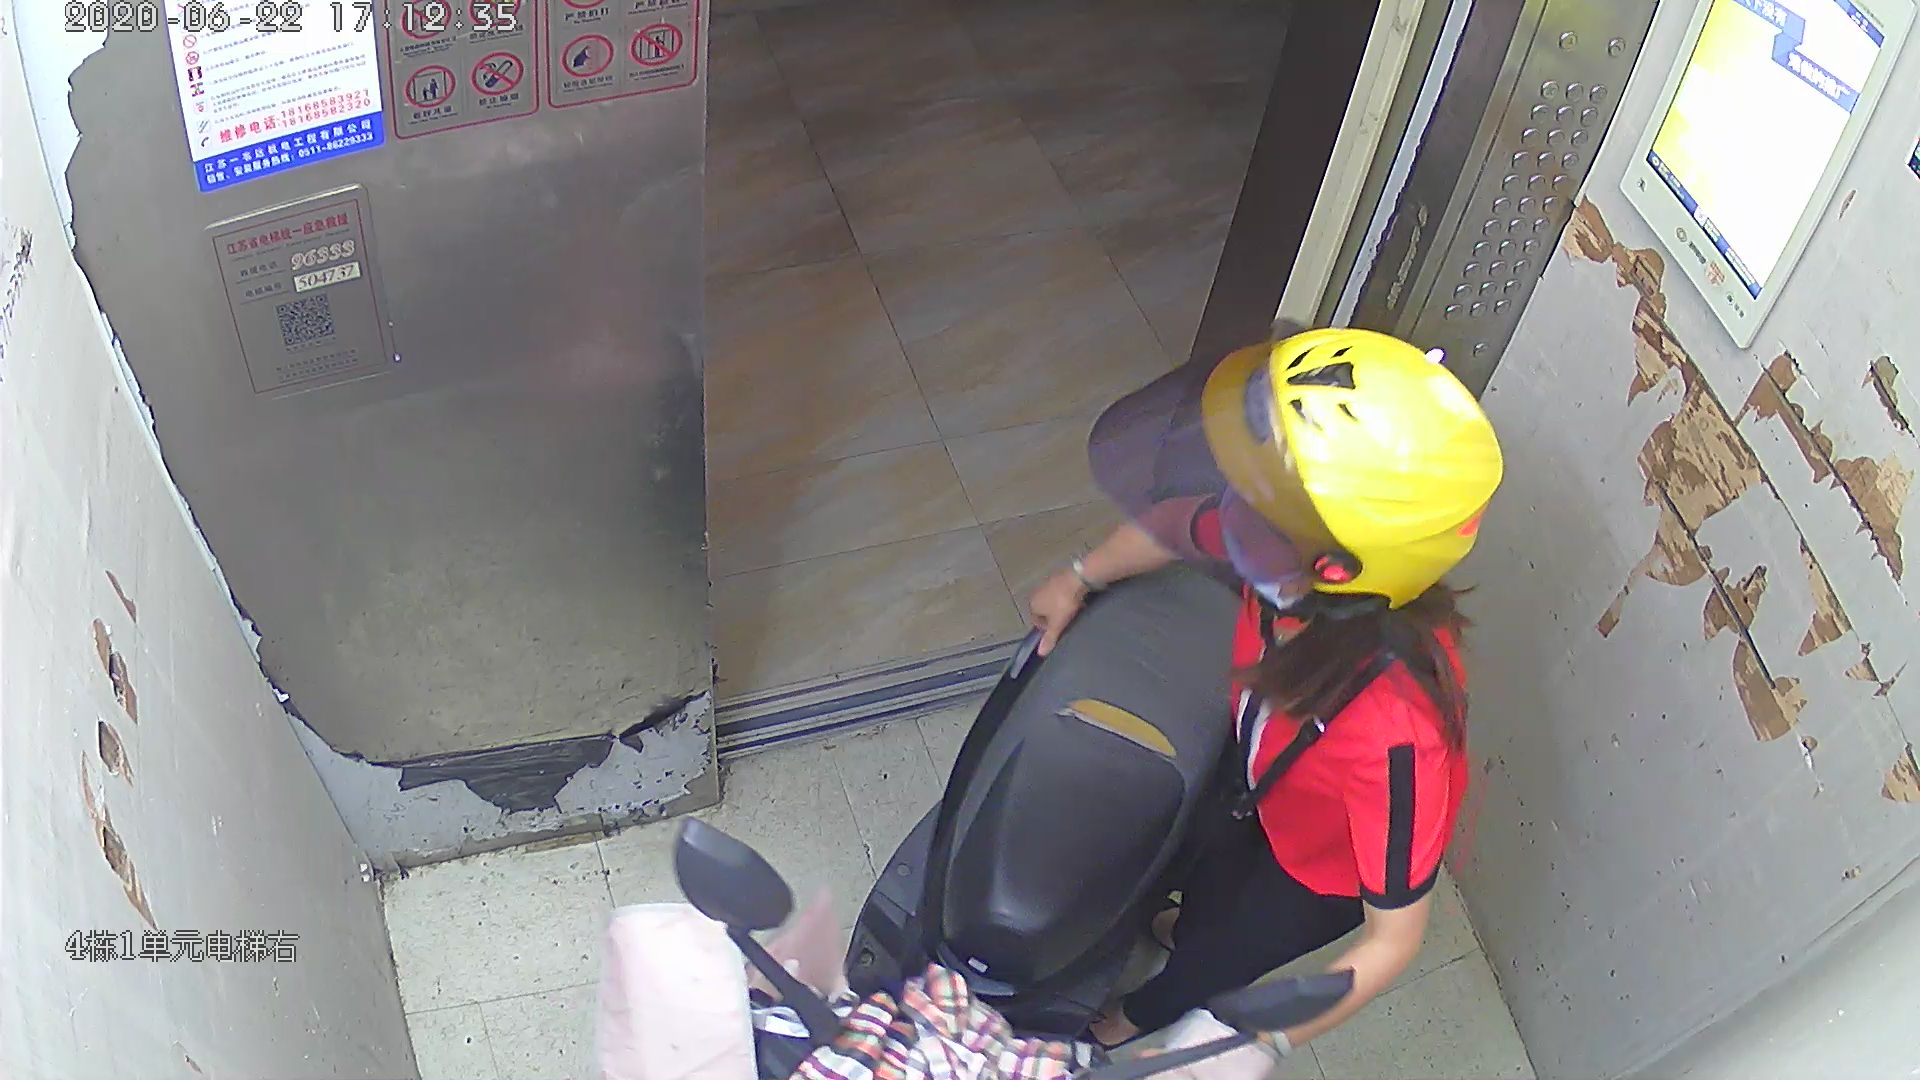Electric-bicycle: (673, 574, 1356, 1077)
